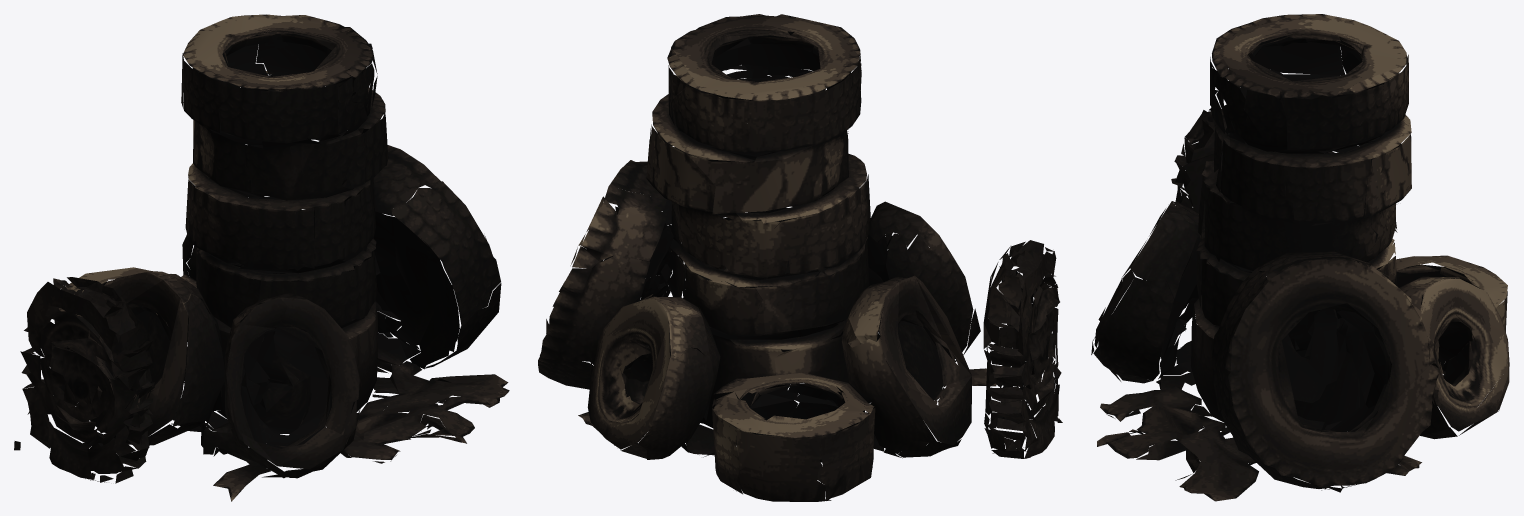
The model's file is yd_tyre_stack.glb.
3 views of the same model, side by side, from view 1: azimuth 30°, elevation 25°; view 2: azimuth 150°, elevation 25°; view 3: azimuth 270°, elevation 25° (orthographic). The views are drawn at different scales.
Visible parts, largest first — view 1: yd_tyre_stack; view 2: yd_tyre_stack; view 3: yd_tyre_stack.
Boxes of the visible parts, <box> form: yd_tyre_stack: <box>14,14,509,501</box>; yd_tyre_stack: <box>538,14,1062,501</box>; yd_tyre_stack: <box>1091,14,1509,501</box>.
Size of the model in its own units: 0.9345 by 0.6909 by 0.7234.
1 material, 1 textured.
